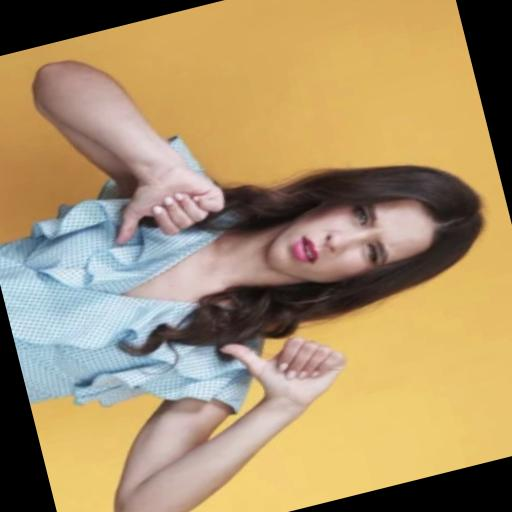Thumbs_Down: (210, 307, 370, 433), (86, 135, 245, 255)
